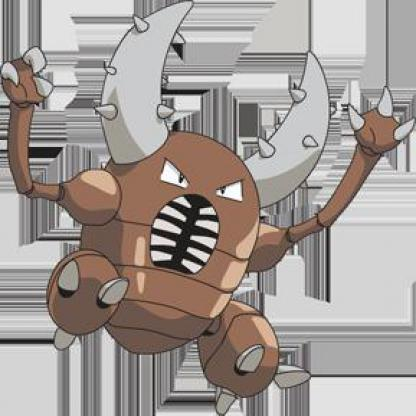Pinsir: (1, 16, 416, 416)
